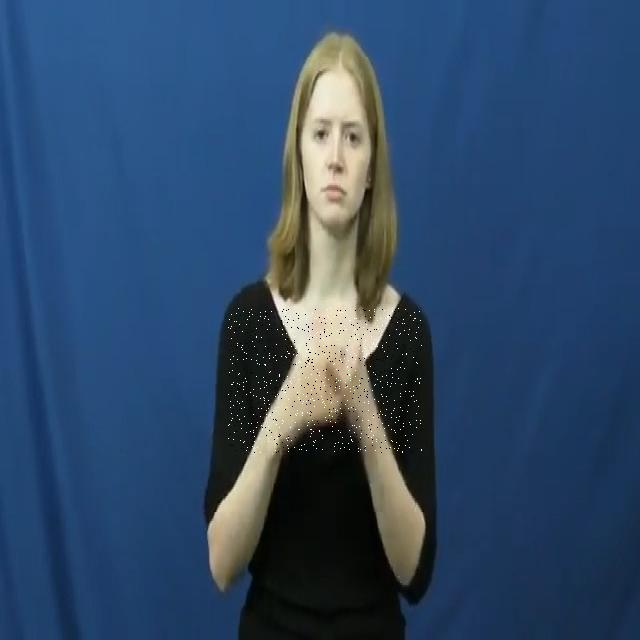additional: (228, 308, 422, 453)
